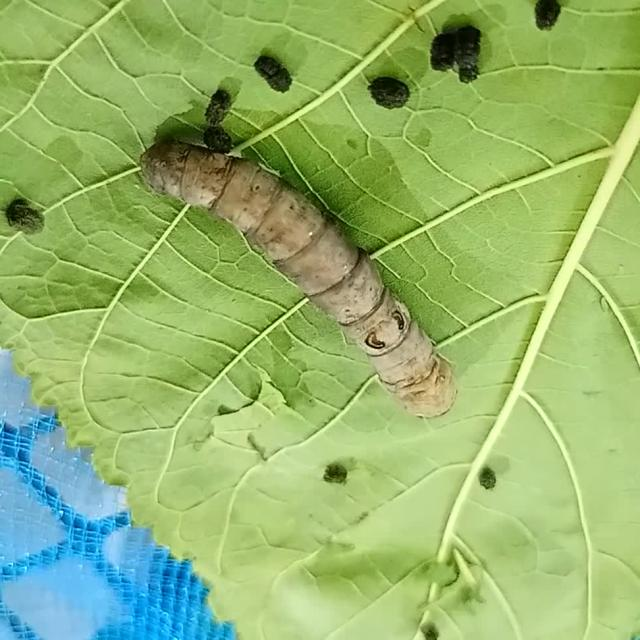Grasserie: (128, 125, 466, 433)
